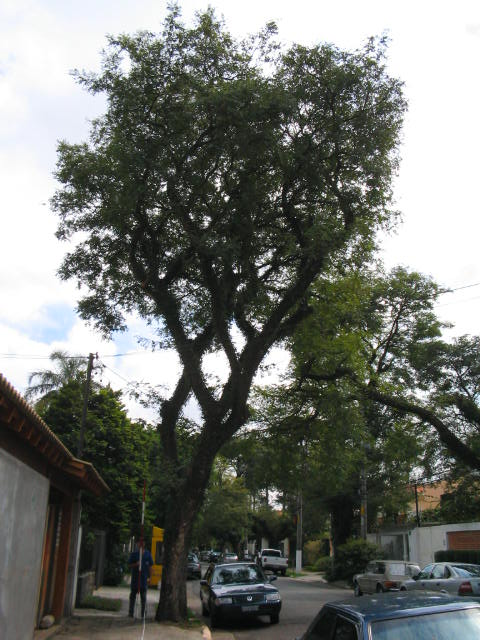crown: (48, 4, 405, 359)
stem: (148, 493, 203, 621)
stick: (129, 480, 150, 620)
tree: (45, 1, 407, 622)
